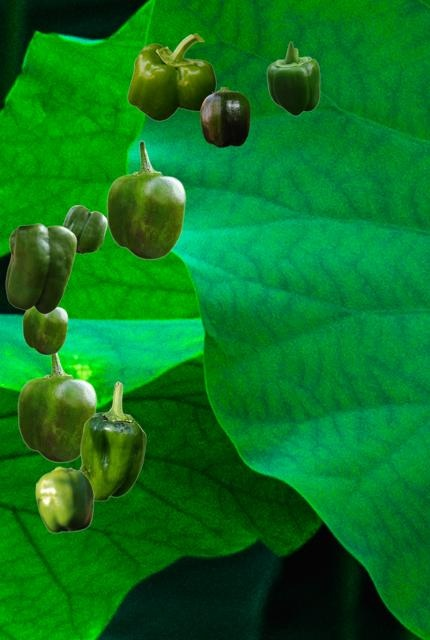bell_pepper: (106, 140, 185, 259), (17, 353, 96, 462), (79, 381, 145, 500), (127, 33, 215, 120), (5, 223, 76, 313), (266, 41, 319, 115), (35, 466, 93, 532), (200, 87, 249, 146), (22, 306, 67, 354), (62, 205, 106, 253)
